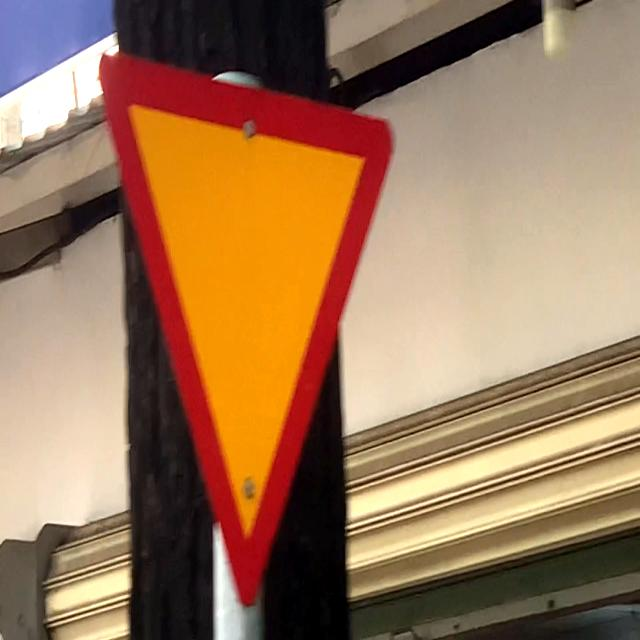W.208: (98, 47, 396, 612)
